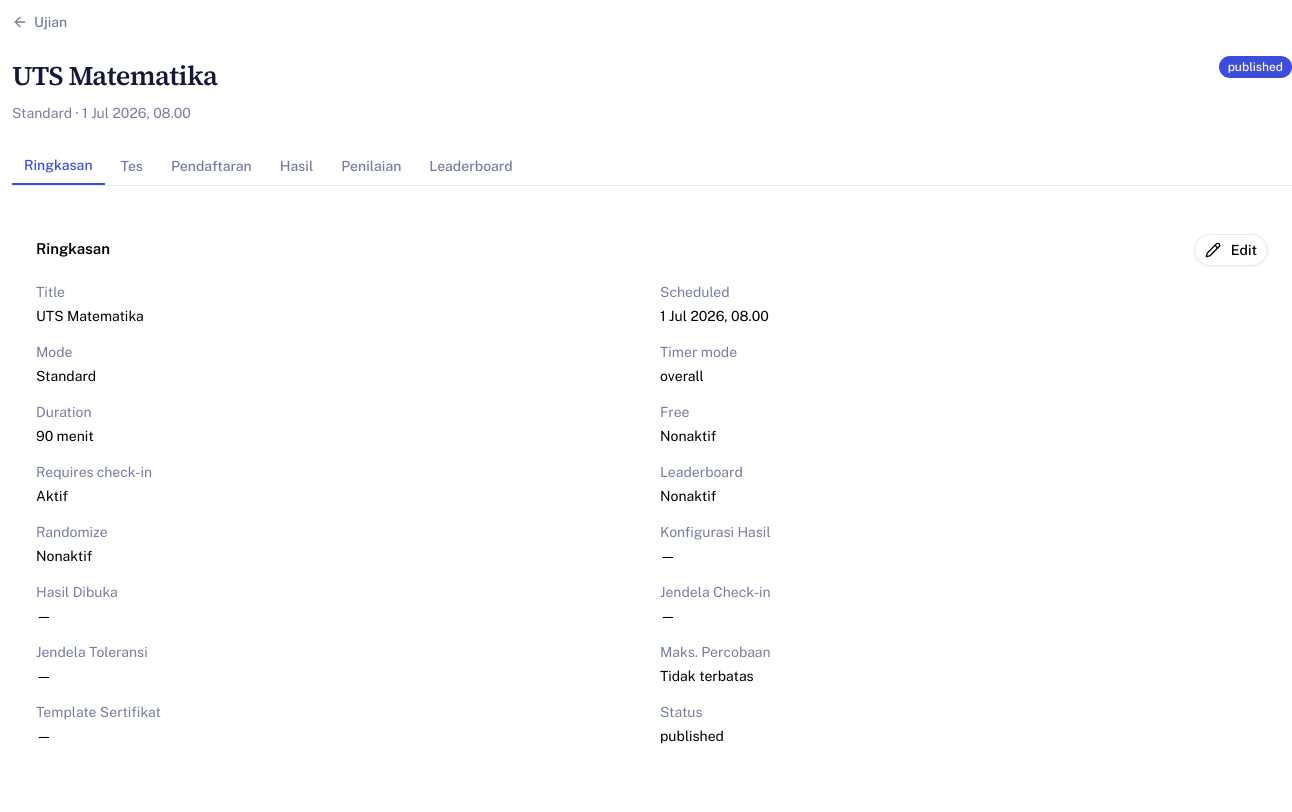
it: ExamPackageDetailPage — grading tab › shows an empty state when no sessions need grading
Click the button "Penilaian": (371, 166) [329,146,413,184]
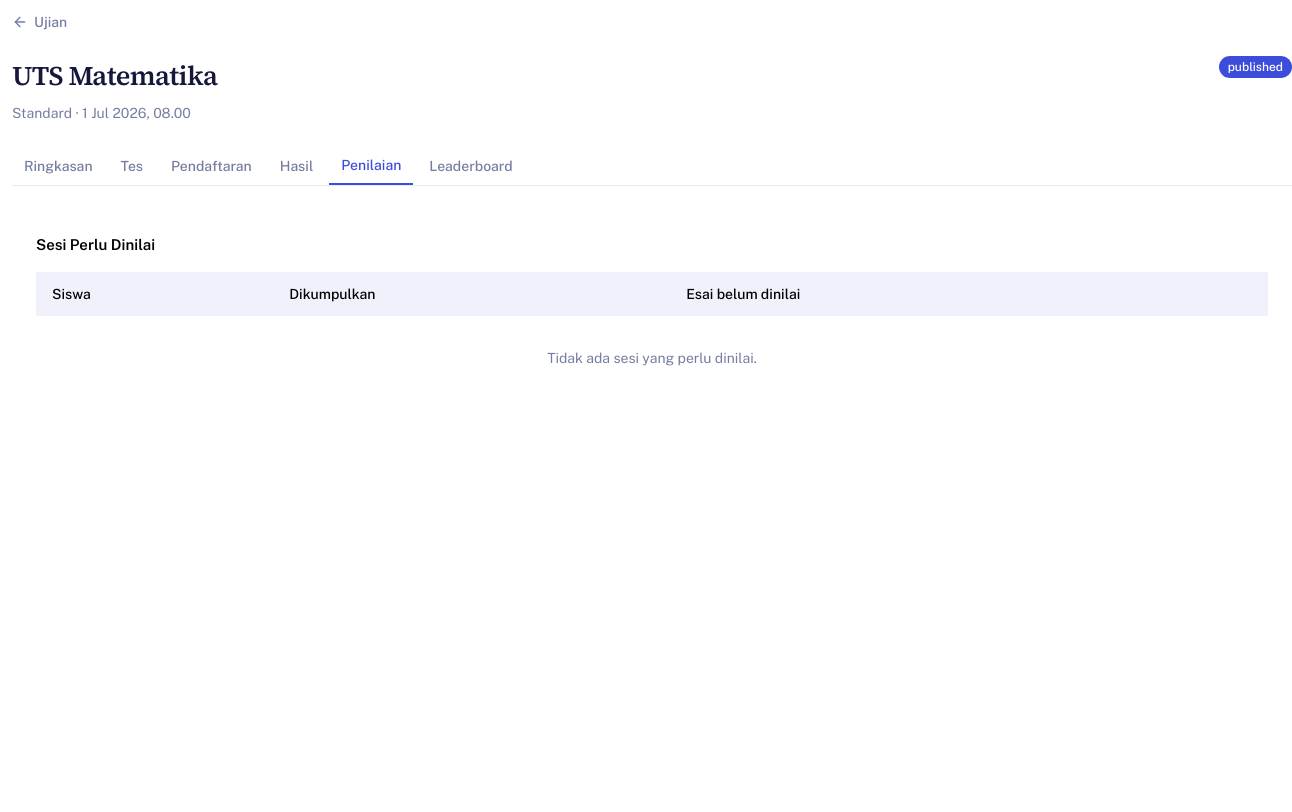
Now the text "Tidak ada sesi yang perlu dinilai." is shown, box [36,316,1268,400]
